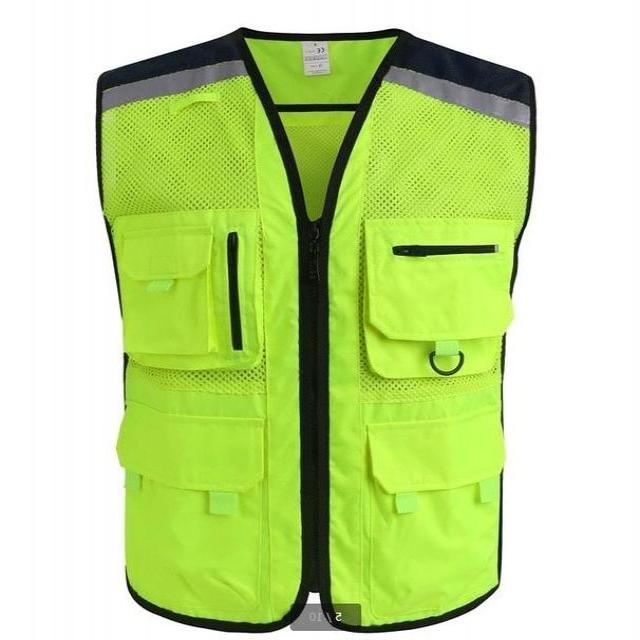Reflective-Jacket: (45, 2, 583, 640)
